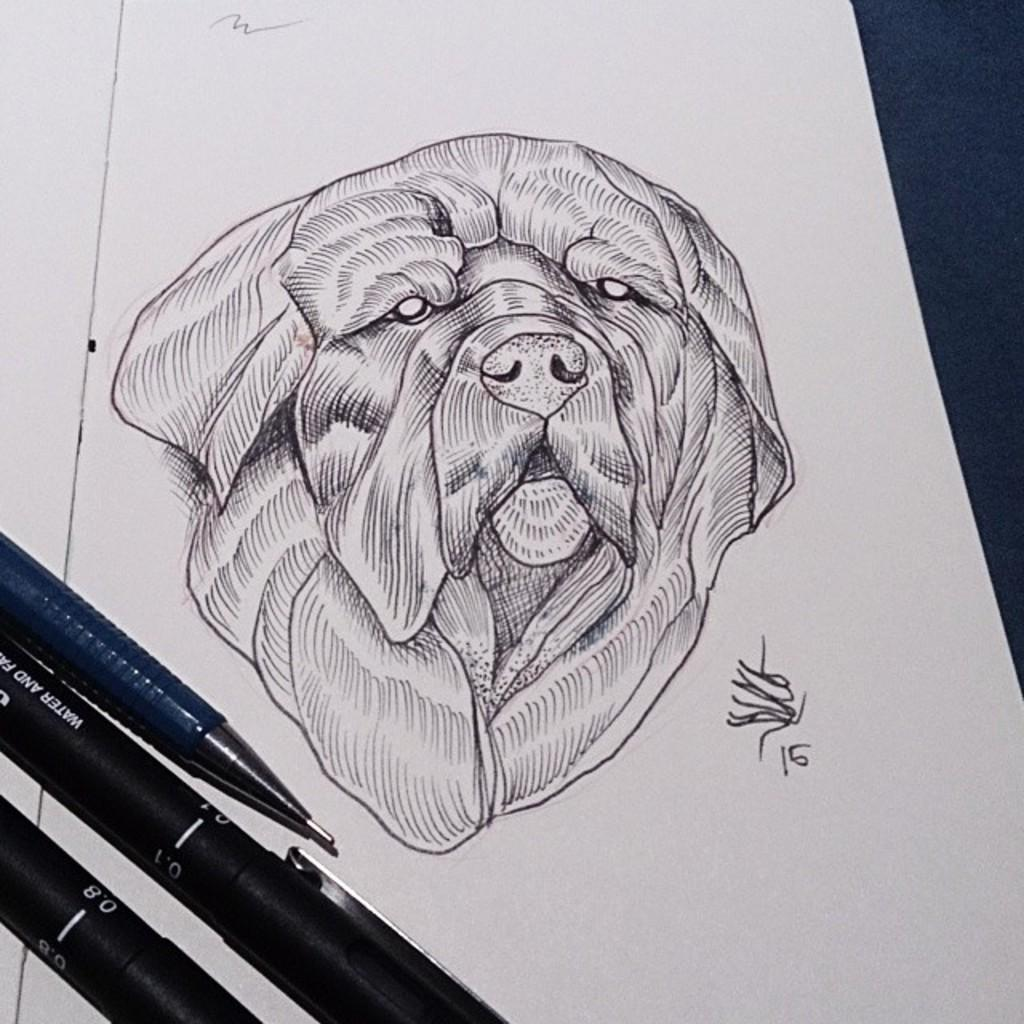pen: (0, 635, 502, 1022), (0, 515, 336, 840), (0, 786, 272, 1022)
